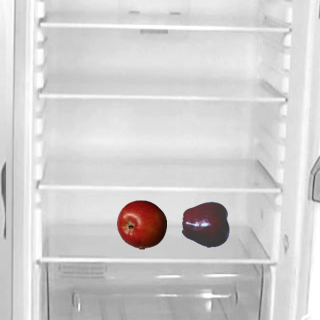Apple Braeburn: (116, 199, 166, 249)
Apple Red Delicious: (181, 199, 231, 249)
